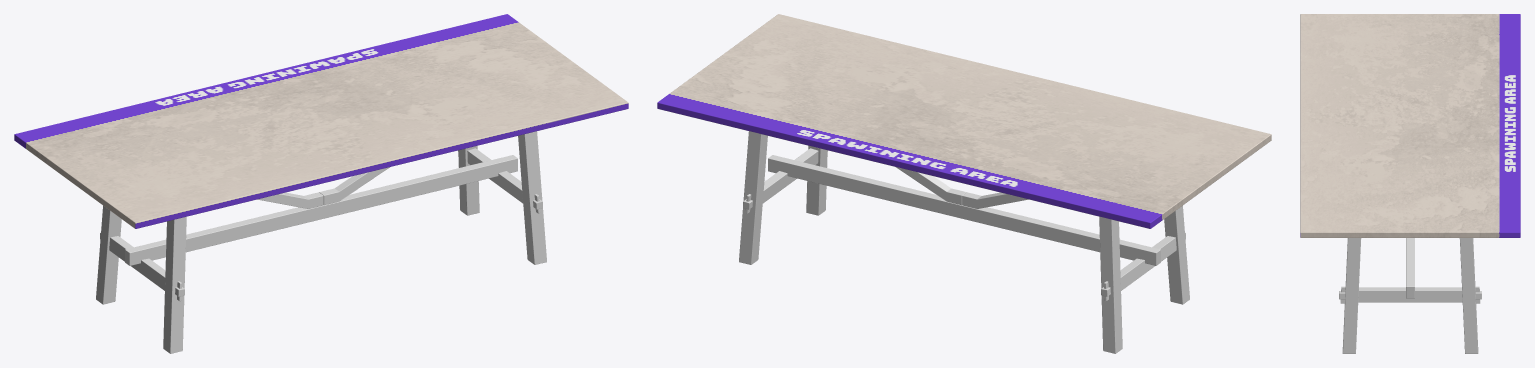
The model's file is modern_table.dae.
3 views of the same model, side by side, from view 1: azimuth 30°, elevation 25°; view 2: azimuth 150°, elevation 25°; view 3: azimuth 270°, elevation 25° (orthographic). The views are drawn at different scales.
Visible parts, largest first — view 1: Table Top, Center Trysail; view 2: Table Top, Center Trysail; view 3: Table Top, Center Trysail.
Part boxes in pixels (x1,y1,x2,y2): Table Top: (14,14,628,228); Center Trysail: (96,131,546,353); Table Top: (657,14,1271,228); Center Trysail: (739,131,1189,353); Table Top: (1300,14,1520,237); Center Trysail: (1339,238,1481,353).
Bounding box in the file's own units: 2.35 × 1 × 0.74.
Materials: 2 (1 with a texture image).
